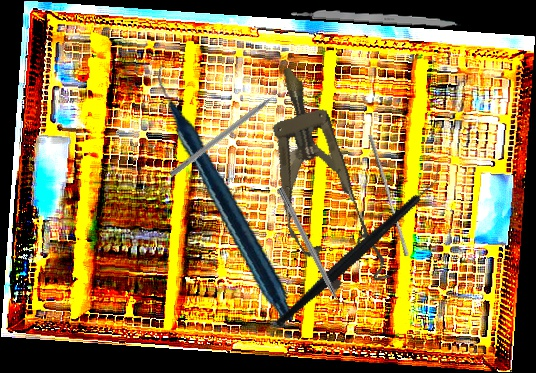Chopper: (242, 159, 477, 329)
Handpiece: (127, 64, 326, 321)
Hook Surgical: (276, 186, 349, 320)
Pusher: (168, 83, 292, 179), (363, 133, 414, 258)
Scalpel Handle: (290, 6, 462, 29)
Speculum: (246, 56, 392, 301)
